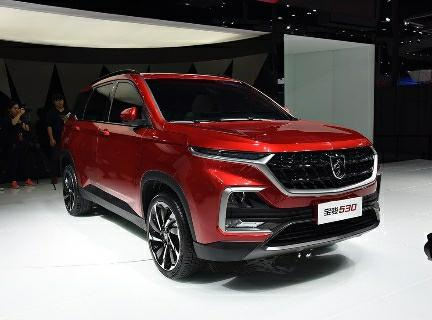car: (40, 47, 385, 285)
